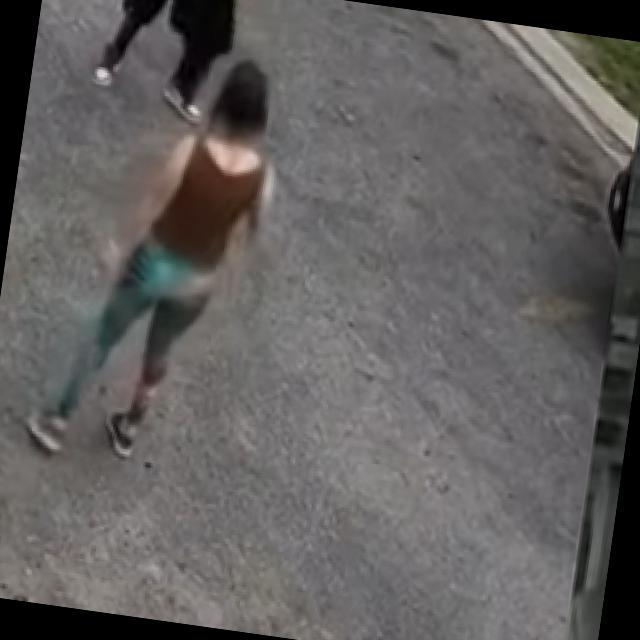person: (21, 33, 292, 480), (90, 0, 243, 126)
